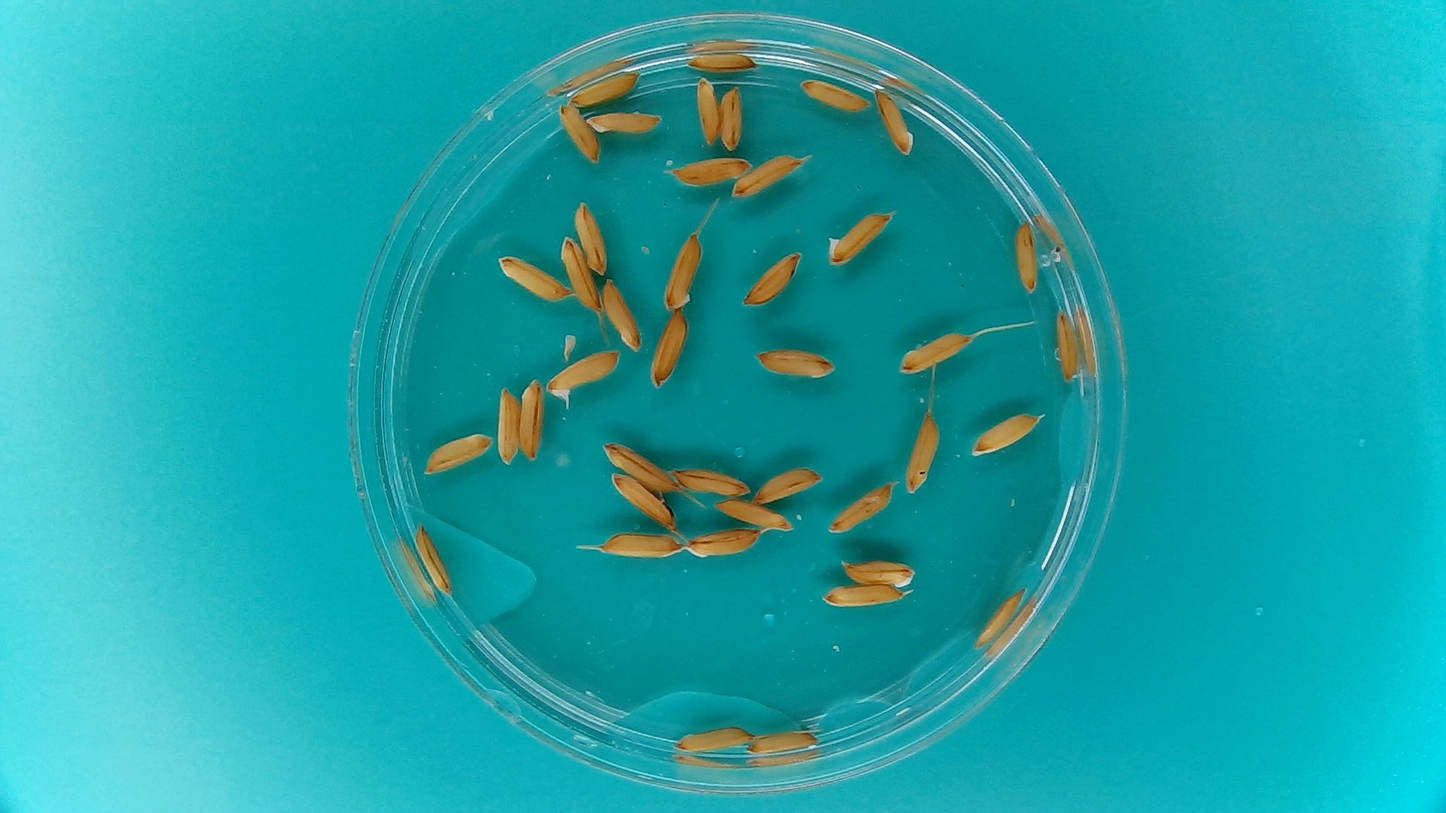no: (822, 205, 896, 273), (492, 250, 571, 308), (731, 151, 812, 206), (602, 438, 681, 493), (607, 470, 679, 528), (794, 69, 872, 121), (741, 248, 805, 310), (826, 481, 896, 537), (408, 518, 455, 599), (968, 410, 1047, 458), (660, 226, 703, 314), (669, 150, 756, 193), (873, 84, 920, 161), (750, 343, 836, 385), (974, 584, 1026, 653), (557, 230, 599, 313), (563, 67, 644, 110), (422, 431, 496, 478), (898, 328, 975, 373), (599, 274, 642, 352), (648, 308, 688, 391), (554, 98, 600, 169), (752, 461, 825, 505), (905, 413, 941, 499), (573, 197, 612, 276), (1047, 305, 1085, 382), (712, 498, 796, 532), (671, 721, 756, 754), (585, 105, 665, 139), (596, 531, 686, 561), (841, 557, 918, 591), (682, 528, 764, 559), (673, 466, 751, 498), (1011, 217, 1042, 296), (518, 374, 545, 464), (819, 583, 905, 610), (682, 44, 760, 73), (494, 379, 520, 466), (746, 728, 821, 757), (717, 81, 746, 154), (693, 74, 721, 149)
yes: (547, 351, 622, 400)
